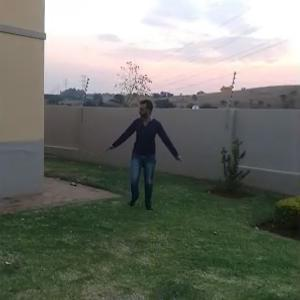land: (97, 103, 189, 228)
